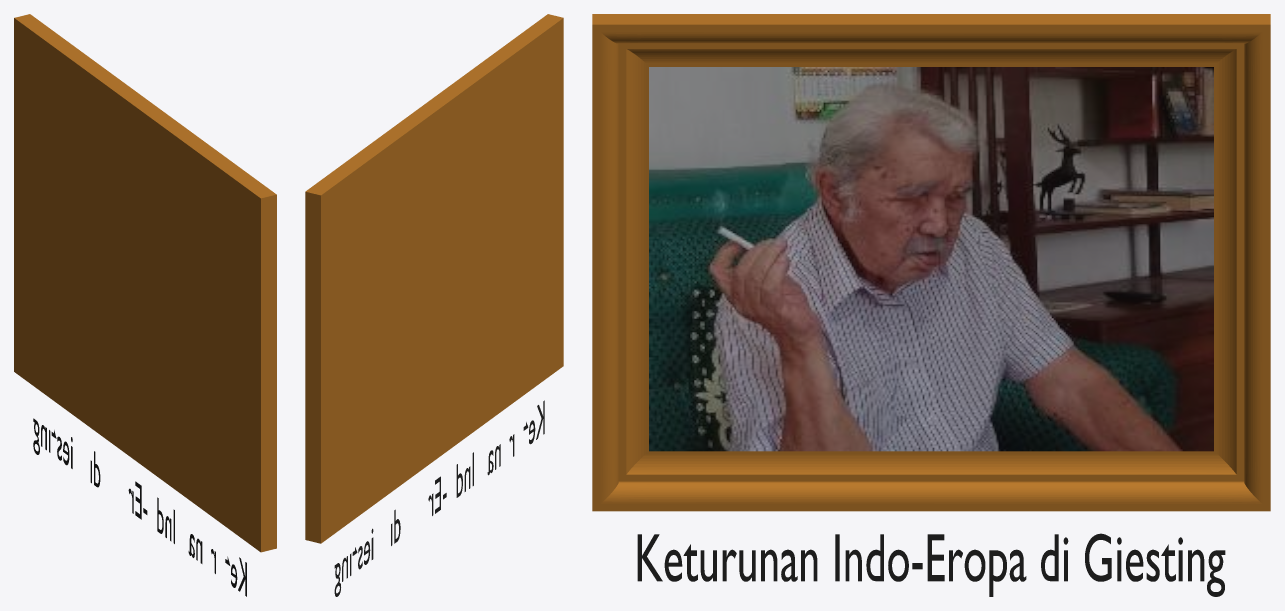
Rendered from bapak.glb.
3 views of the same model, side by side, from view 1: azimuth 30°, elevation 25°; view 2: azimuth 150°, elevation 25°; view 3: azimuth 270°, elevation 25° (orthographic). The views are drawn at different scales.
Visible parts, largest first — view 1: 4, 4t; view 2: 4, 4t; view 3: 4, 4t.
Part boxes in pixels (x1,y1,x2,y2): 4: (14,14,276,552); 4t: (33,418,246,596); 4: (305,14,563,543); 4t: (334,400,544,596); 4: (592,14,1270,511); 4t: (637,533,1225,596).
Bounding box in the file's own units: 8.98 × 227 × 240.
4 materials, 1 textured.
